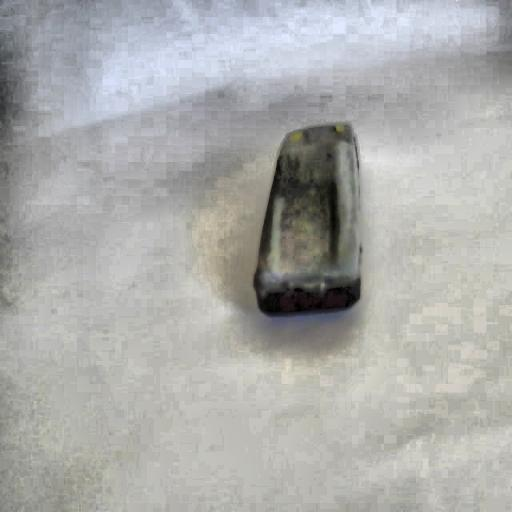normal_car: (241, 112, 368, 324)
